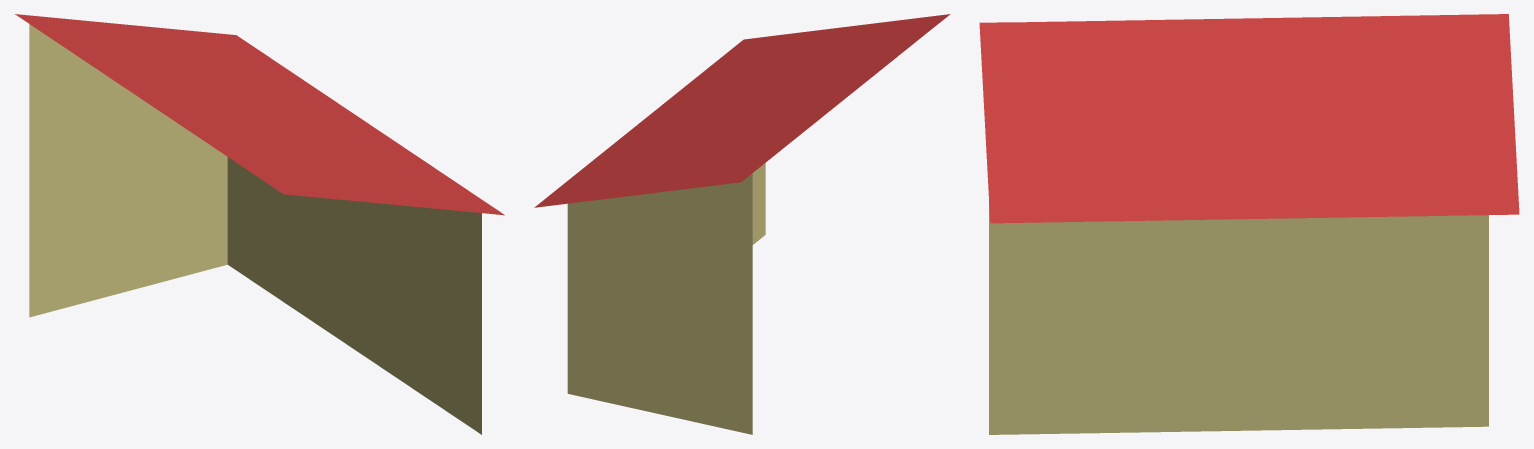
3 views of the same model, side by side, from view 1: azimuth 30°, elevation 25°; view 2: azimuth 150°, elevation 25°; view 3: azimuth 270°, elevation 25° (orthographic). The views are drawn at different scales.
Size of the model in its own units: 2.53 by 4.61 by 2.9.
